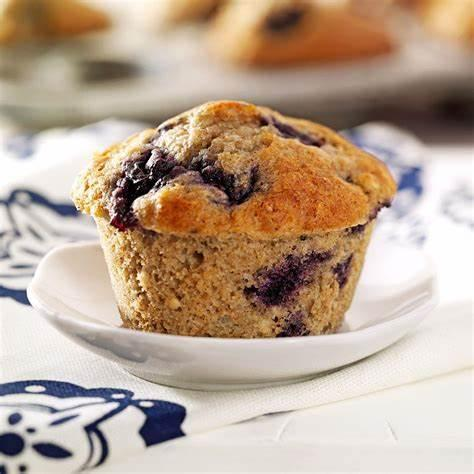muffin: (66, 76, 403, 344)
